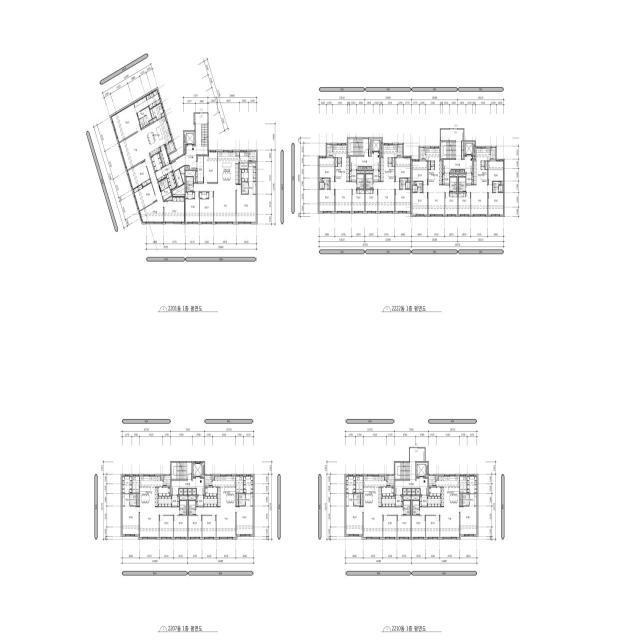space_balconi: (166, 141, 175, 154), (249, 151, 256, 161)
space_bedroom: (111, 103, 141, 142), (237, 184, 256, 223), (127, 161, 151, 189), (133, 183, 156, 211), (164, 197, 185, 223), (122, 506, 139, 535), (460, 506, 477, 535), (346, 506, 363, 535), (237, 506, 253, 535), (204, 151, 217, 182), (200, 192, 213, 223), (186, 192, 199, 223), (395, 157, 411, 181), (488, 160, 504, 184), (319, 157, 334, 181), (412, 160, 427, 184), (488, 193, 504, 215), (395, 190, 411, 212), (319, 190, 334, 212), (412, 193, 427, 215), (188, 516, 202, 538), (202, 516, 216, 538), (159, 516, 173, 538), (397, 516, 411, 538), (383, 516, 397, 538), (426, 516, 440, 538), (365, 190, 378, 212), (174, 516, 187, 538), (412, 516, 425, 538), (445, 193, 457, 215), (458, 193, 470, 215), (352, 190, 364, 212), (200, 192, 209, 198), (186, 192, 194, 198)
space_dressroom: (146, 89, 161, 109), (122, 475, 132, 493), (467, 475, 477, 493), (244, 475, 253, 493), (346, 475, 355, 493), (249, 163, 256, 181), (242, 170, 248, 181)
space_elevator: (416, 463, 428, 477), (193, 463, 204, 477), (184, 132, 195, 145), (465, 142, 475, 155), (372, 139, 382, 152)
space_elevator_hall: (171, 114, 207, 171), (395, 448, 428, 494), (441, 129, 472, 172), (351, 139, 379, 169), (171, 479, 204, 494)
space_front: (155, 163, 172, 181), (151, 153, 163, 171), (166, 171, 177, 190), (196, 156, 203, 183), (204, 496, 217, 506), (428, 496, 441, 506), (382, 497, 395, 506), (158, 497, 171, 506), (373, 170, 380, 181), (466, 174, 473, 184), (172, 496, 179, 506), (196, 496, 203, 506), (420, 496, 427, 506), (396, 496, 403, 506), (350, 170, 356, 181), (443, 174, 449, 184)
space_kitchen: (142, 116, 172, 156), (140, 475, 163, 507), (212, 475, 235, 507), (436, 475, 459, 507), (364, 475, 387, 507), (218, 151, 239, 184), (426, 147, 443, 185), (380, 144, 397, 182), (333, 144, 350, 182), (473, 148, 490, 185), (158, 487, 170, 496), (382, 487, 394, 496), (205, 488, 217, 496), (429, 488, 441, 496)
space_living_room: (119, 130, 163, 223), (194, 184, 236, 223), (139, 507, 179, 538), (196, 507, 236, 538), (363, 507, 403, 538), (420, 507, 460, 538), (423, 185, 449, 215), (330, 182, 356, 212), (466, 185, 492, 215), (373, 182, 399, 212)
space_other: (159, 145, 170, 167), (150, 103, 164, 120), (174, 169, 183, 187), (240, 151, 249, 169), (173, 184, 185, 195), (236, 475, 243, 493), (132, 475, 139, 493), (356, 475, 363, 493), (460, 475, 467, 493), (186, 170, 195, 182), (180, 166, 185, 183), (149, 117, 157, 123), (403, 496, 411, 500), (188, 496, 196, 500), (165, 196, 172, 200), (180, 496, 187, 500), (412, 496, 419, 500), (236, 494, 238, 506), (365, 170, 373, 173), (137, 494, 139, 506), (460, 494, 462, 506), (361, 494, 363, 506), (357, 170, 364, 173), (192, 489, 196, 494), (179, 489, 183, 494), (188, 489, 192, 494), (416, 489, 420, 494), (412, 489, 416, 494), (403, 489, 407, 494), (407, 489, 411, 494), (485, 161, 487, 169), (335, 158, 337, 166), (462, 142, 463, 158), (369, 139, 370, 155), (428, 161, 430, 169), (458, 174, 466, 176), (184, 146, 186, 154), (161, 113, 165, 117), (184, 489, 187, 494), (236, 151, 239, 156), (450, 174, 457, 176), (240, 170, 241, 184), (185, 166, 189, 169), (367, 167, 372, 169), (408, 178, 411, 181), (501, 181, 504, 184), (393, 158, 394, 166), (451, 170, 455, 172), (358, 167, 362, 169), (460, 170, 464, 172), (363, 167, 367, 169), (456, 170, 460, 172), (212, 476, 214, 480), (436, 476, 438, 480), (319, 178, 321, 181), (412, 181, 414, 184), (380, 154, 382, 155), (473, 157, 475, 158)
space_outdoor_room: (205, 475, 212, 486), (387, 475, 394, 486), (164, 475, 170, 486), (429, 475, 435, 486), (420, 147, 425, 160), (491, 147, 496, 160), (398, 144, 403, 156), (327, 144, 332, 156)
space_staircase: (171, 463, 192, 479), (395, 463, 410, 479), (348, 139, 363, 155), (441, 142, 456, 158), (201, 124, 207, 146)
space_toilet: (137, 107, 152, 128), (134, 96, 148, 113), (161, 187, 172, 200), (180, 501, 187, 515), (366, 174, 373, 188), (459, 177, 466, 191), (450, 177, 457, 191), (357, 174, 364, 188), (186, 177, 193, 191), (189, 501, 196, 515), (412, 501, 419, 515), (469, 494, 477, 506), (400, 178, 408, 189), (322, 178, 330, 189), (249, 182, 256, 194), (123, 494, 130, 506), (246, 494, 253, 506), (346, 494, 353, 506), (404, 501, 410, 515), (415, 182, 423, 192), (493, 182, 500, 192), (163, 178, 169, 189), (159, 180, 165, 191), (462, 494, 469, 500), (242, 182, 248, 188), (242, 188, 248, 194), (239, 494, 245, 500), (130, 494, 137, 499), (130, 500, 137, 505), (462, 500, 469, 505), (354, 500, 360, 505), (239, 500, 245, 505), (354, 494, 360, 499), (320, 182, 324, 189), (413, 185, 417, 192), (499, 185, 503, 192), (406, 182, 410, 189)
